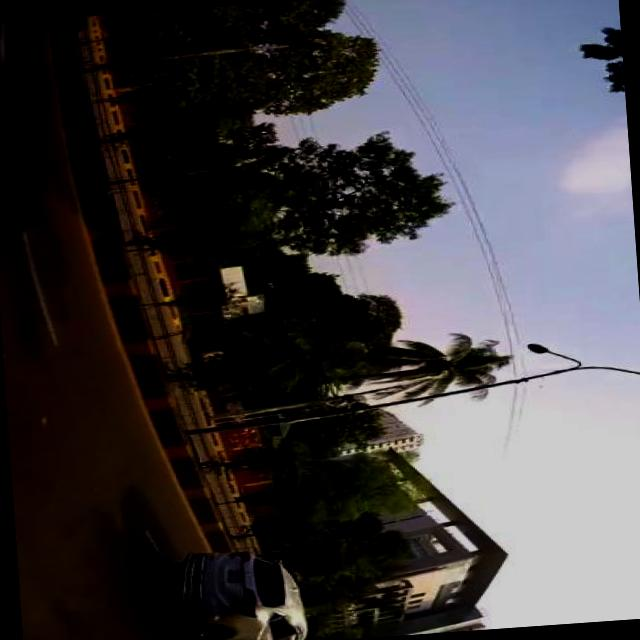car: (171, 545, 309, 640)
